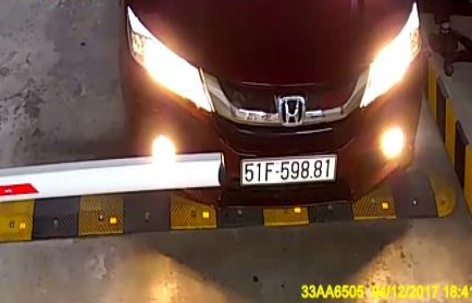plate: (236, 151, 338, 186)
